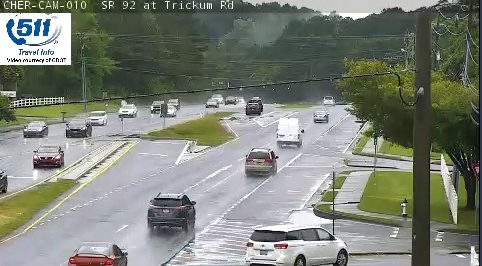car: (148, 193, 195, 226), (69, 242, 130, 266), (245, 149, 276, 174), (313, 110, 329, 123)
van: (277, 117, 300, 145)
